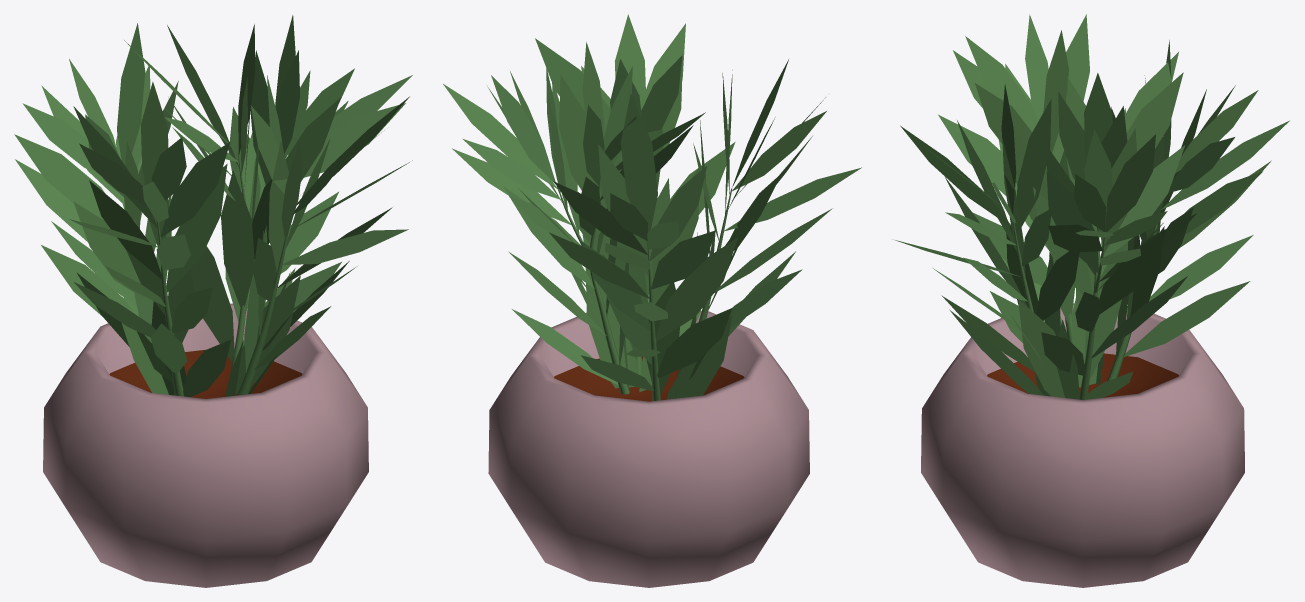
File: BigPlant.fbx
The picture shows the model from 3 angles, left to right: view 1: azimuth 30°, elevation 25°; view 2: azimuth 150°, elevation 25°; view 3: azimuth 270°, elevation 25°; orthographic projection.
Visible parts, largest first — view 1: leaves, Cylinder.010; view 2: leaves, Cylinder.010; view 3: leaves, Cylinder.010.
Boxes of the visible parts, x1,y1,x2,y2 form: leaves: [14, 15, 412, 397]; Cylinder.010: [43, 303, 368, 587]; leaves: [443, 14, 861, 400]; Cylinder.010: [488, 310, 809, 587]; leaves: [895, 14, 1289, 399]; Cylinder.010: [921, 303, 1244, 587].
Size of the model in its own units: 110 by 134 by 98.78.
